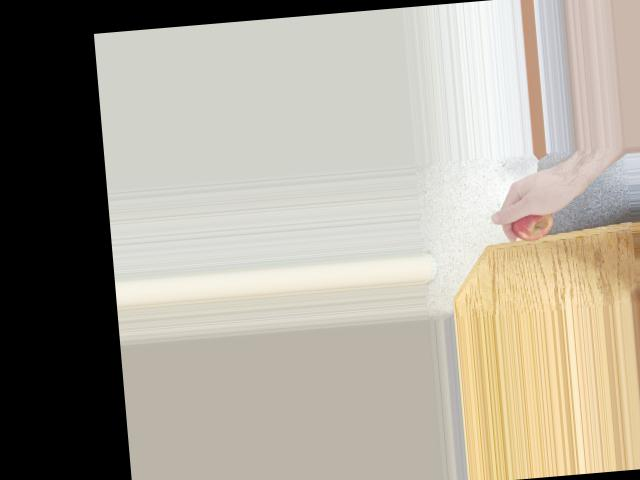apple: (507, 191, 560, 245)
